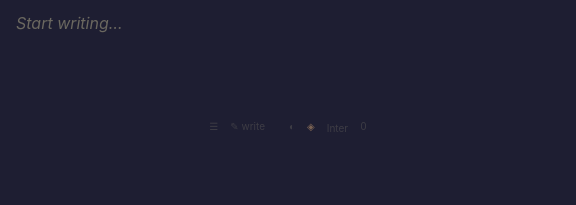
it: Page › shows status footer in conversation mode
Step 1. Click the button with test id "mode-toggle" → (248, 126), box left=230, top=118, right=265, bottom=134
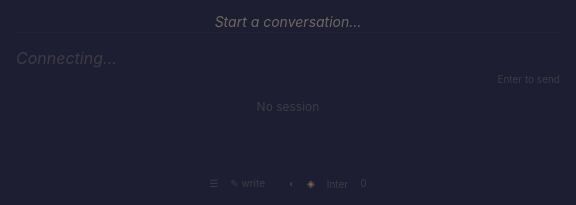
expect the text "No session" is shown: met, box left=257, top=99, right=319, bottom=115
